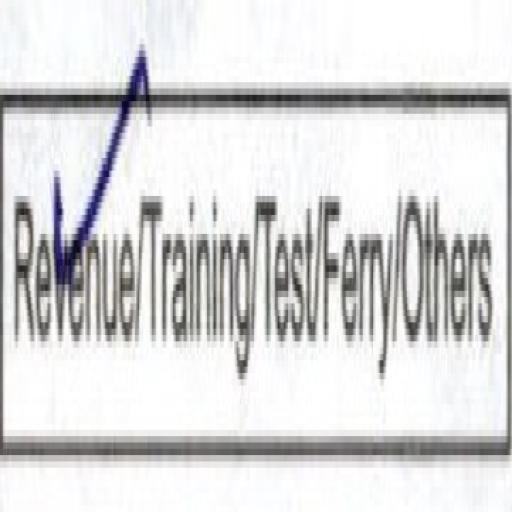check: (0, 22, 144, 476)
